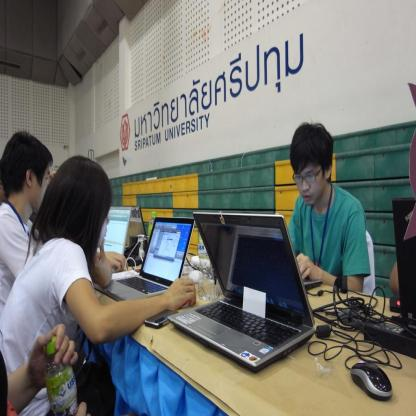board: (150, 210, 323, 387), (93, 217, 196, 302), (393, 196, 416, 328), (46, 342, 80, 416), (98, 206, 132, 254), (304, 278, 322, 290)
